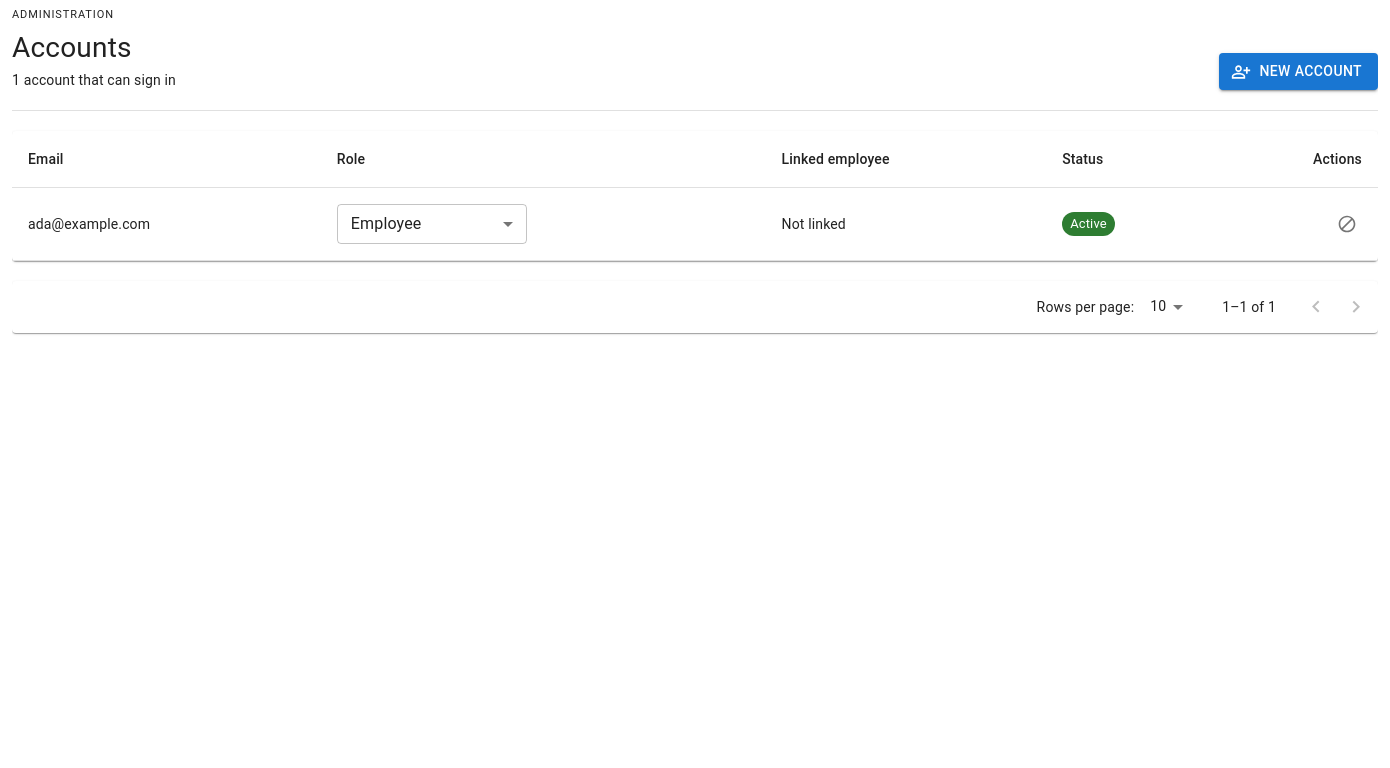
Test: UserListPage › refuses to send an empty role set
The image size is (1390, 768).
Expected: the text "ada@example.com" is shown, [28,214,150,234]
What coordinates should you click on to do the following:
click the dropdown named "Roles for ada@example.com"
I would click on:
 (386, 224)
Its box is [351,214,422,233].
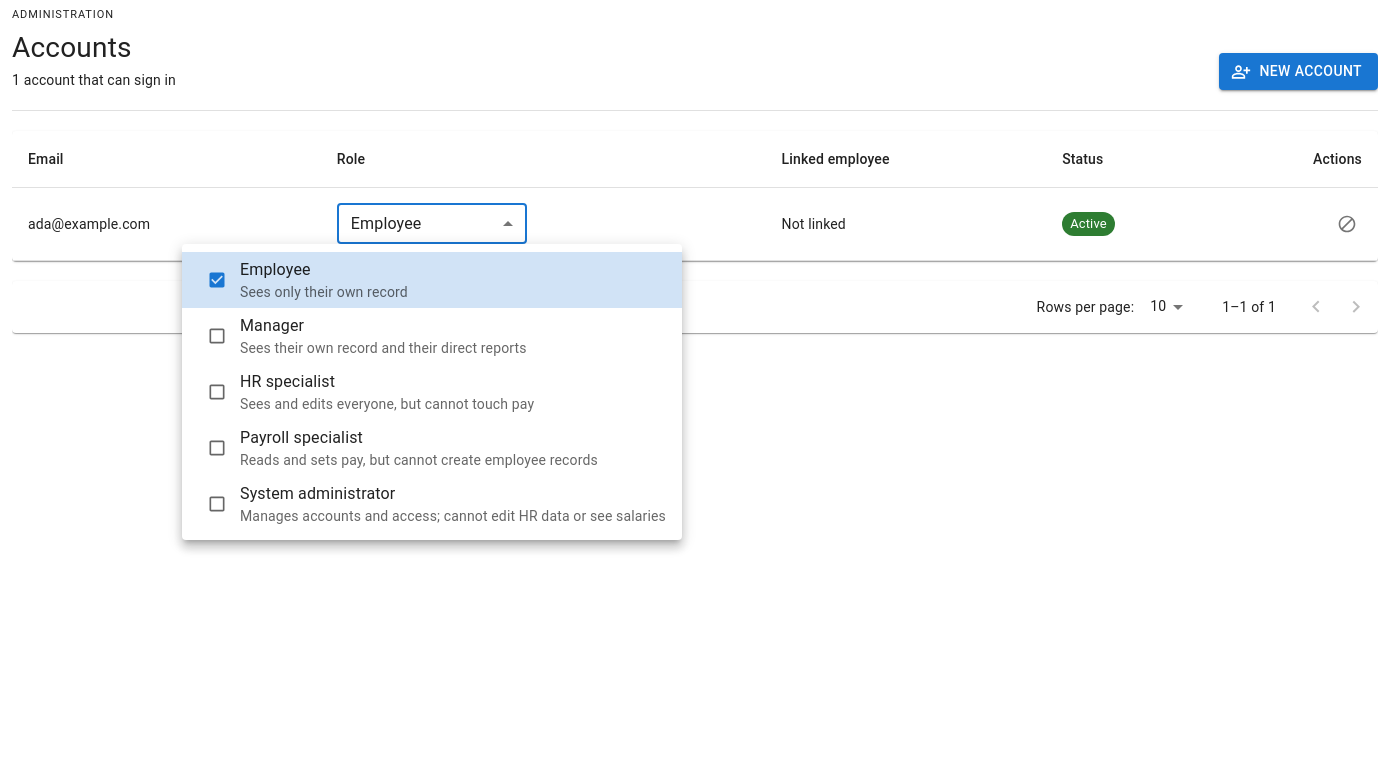
What coordinates should you click on to do the following:
click the option "Employee Sees only their own record"
I would click on:
 (275, 270)
Its box is [182,252,682,308].
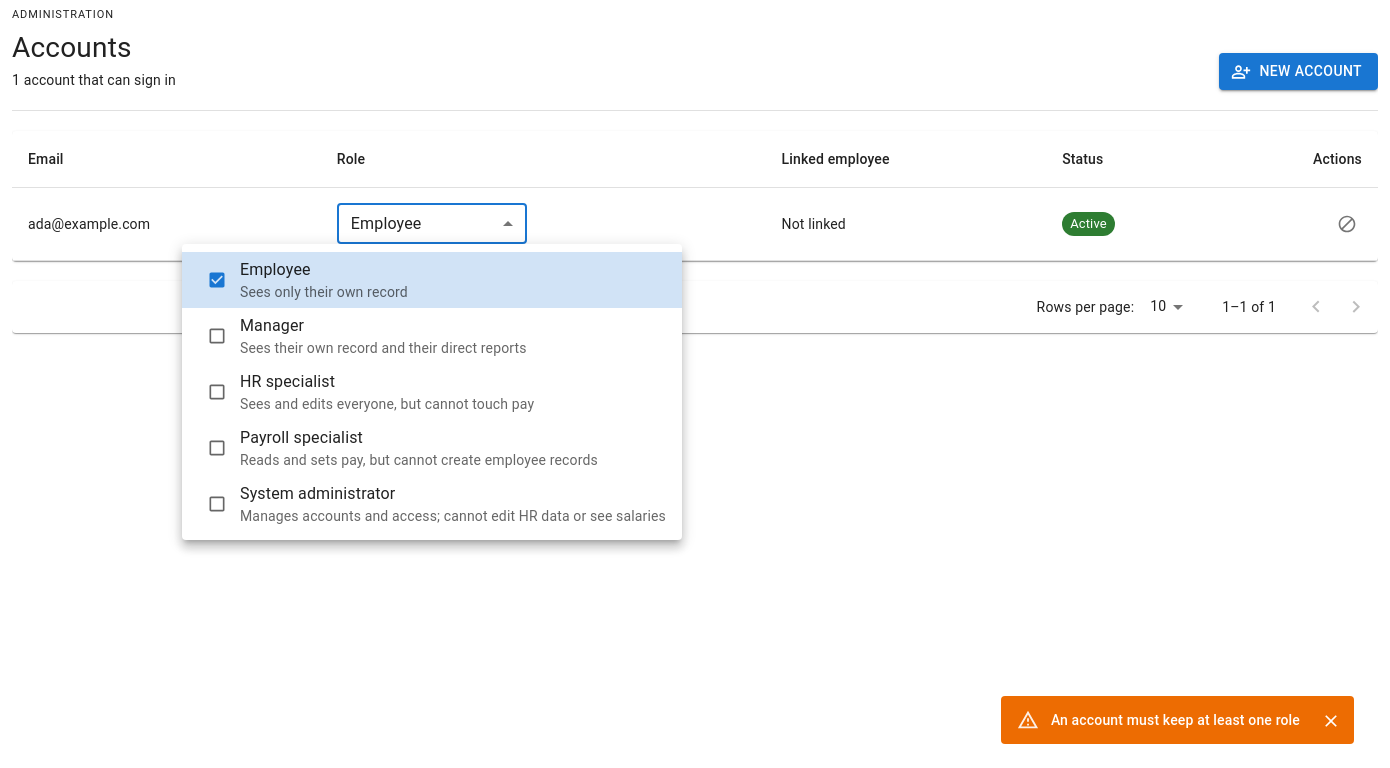
Expected: the text "An account must keep at least one role" is shown, [1051,712,1300,728]
